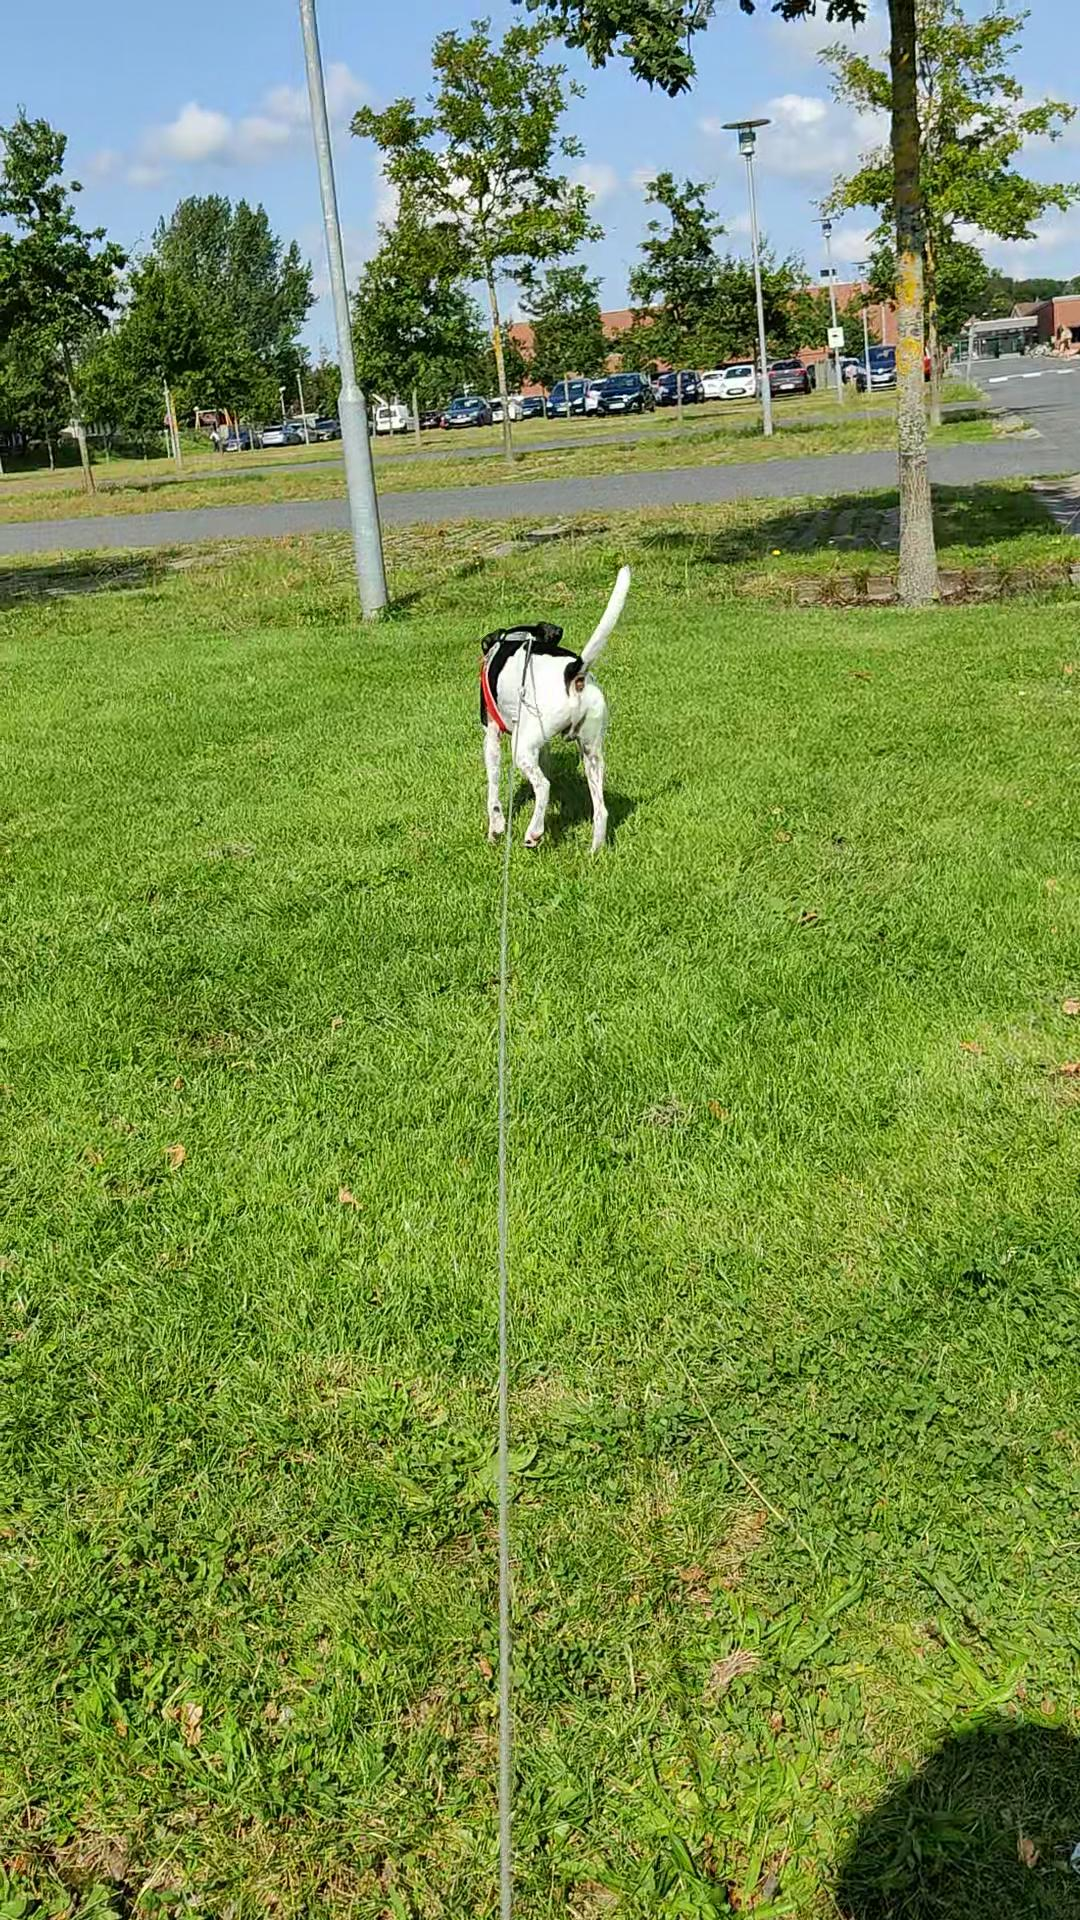Dog: (463, 559, 651, 855)
